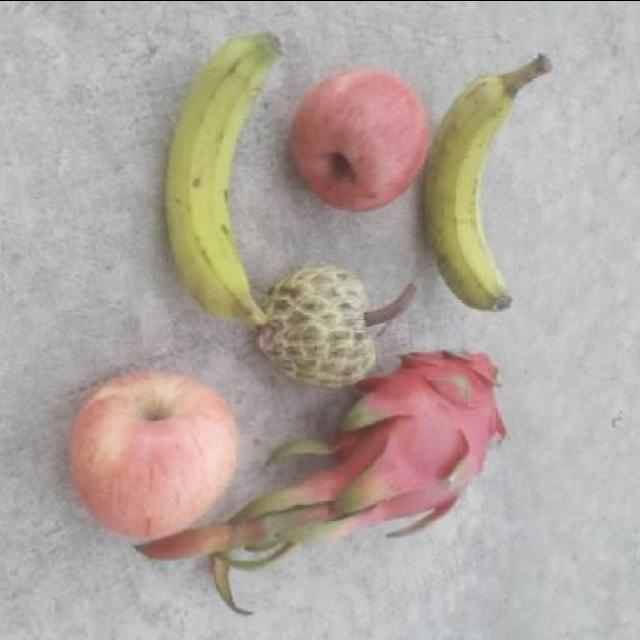apple: (56, 368, 240, 544), (286, 62, 432, 214)
banana: (164, 26, 285, 350), (418, 56, 554, 314)
dragon fruit: (320, 348, 505, 534)
sugar apple: (253, 262, 420, 388)
